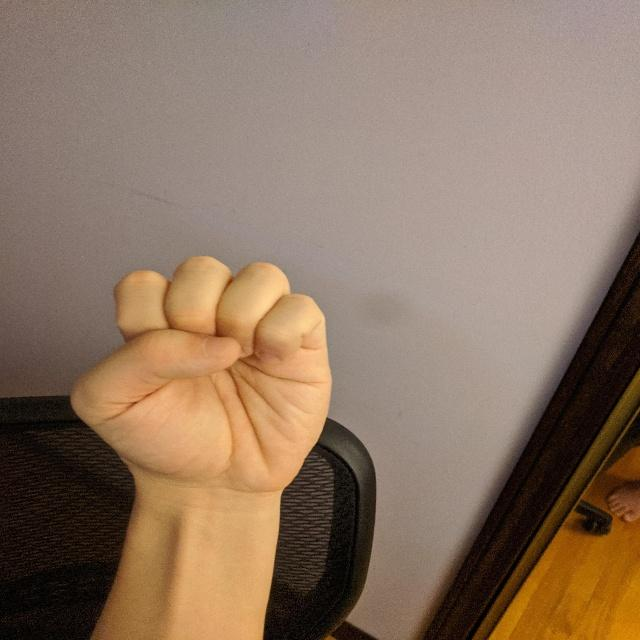E: (65, 250, 342, 505)
